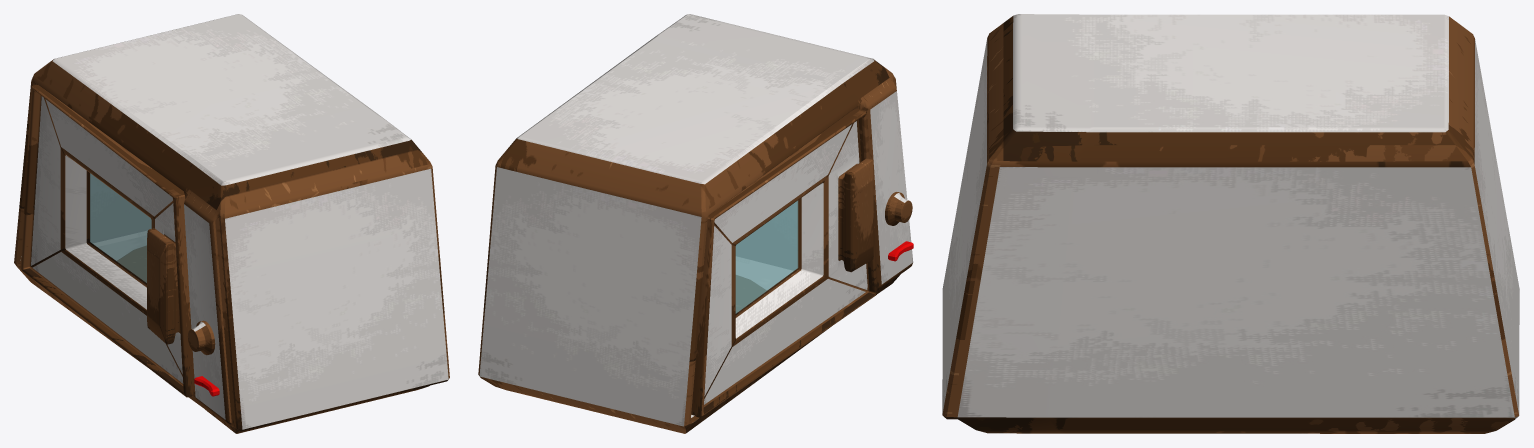
The model's file is mirco wave.fbx.
3 views of the same model, side by side, from view 1: azimuth 30°, elevation 25°; view 2: azimuth 150°, elevation 25°; view 3: azimuth 270°, elevation 25° (orthographic). The views are drawn at different scales.
Parts seen in each view (by area): view 1: MICROWAVE1, MICROWAVE_door, MICROWAVE__nob, mincro_wave_spin; view 2: MICROWAVE1, MICROWAVE_door, MICROWAVE__nob, mincro_wave_spin; view 3: MICROWAVE1.
Boxes of the visible parts, x1,y1,x2,y2 form: MICROWAVE1: (14, 14, 449, 433); MICROWAVE_door: (20, 84, 195, 397); MICROWAVE__nob: (187, 320, 215, 355); mincro_wave_spin: (117, 246, 146, 282); MICROWAVE1: (478, 14, 913, 433); MICROWAVE_door: (691, 109, 877, 417); MICROWAVE__nob: (885, 192, 912, 225); mincro_wave_spin: (736, 275, 766, 312); MICROWAVE1: (942, 14, 1519, 433).
Size of the model in its own units: 3.59 by 3.62 by 6.11.
